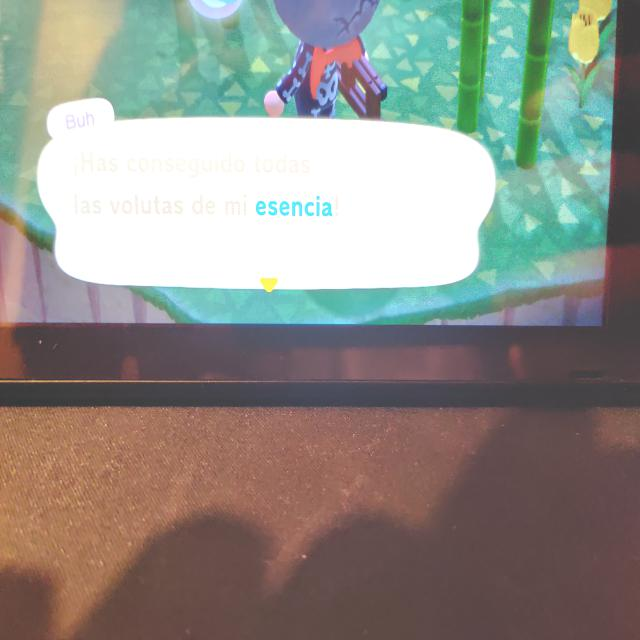text_bubble: (36, 95, 501, 292)
